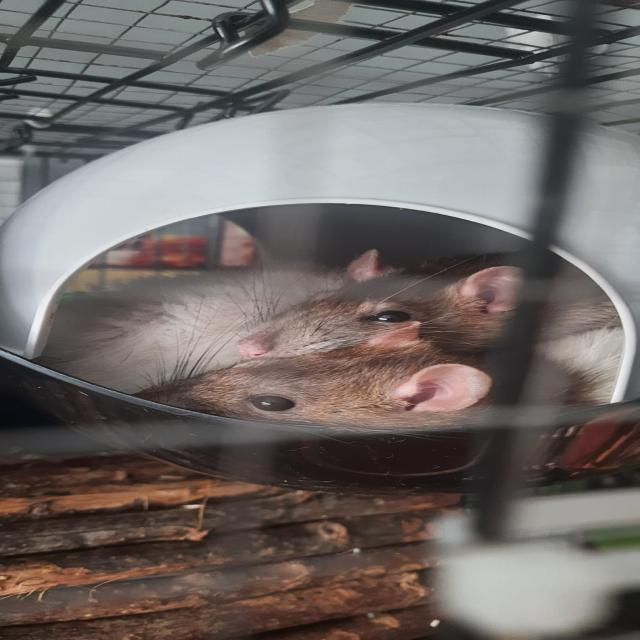rat: (46, 248, 636, 429)
